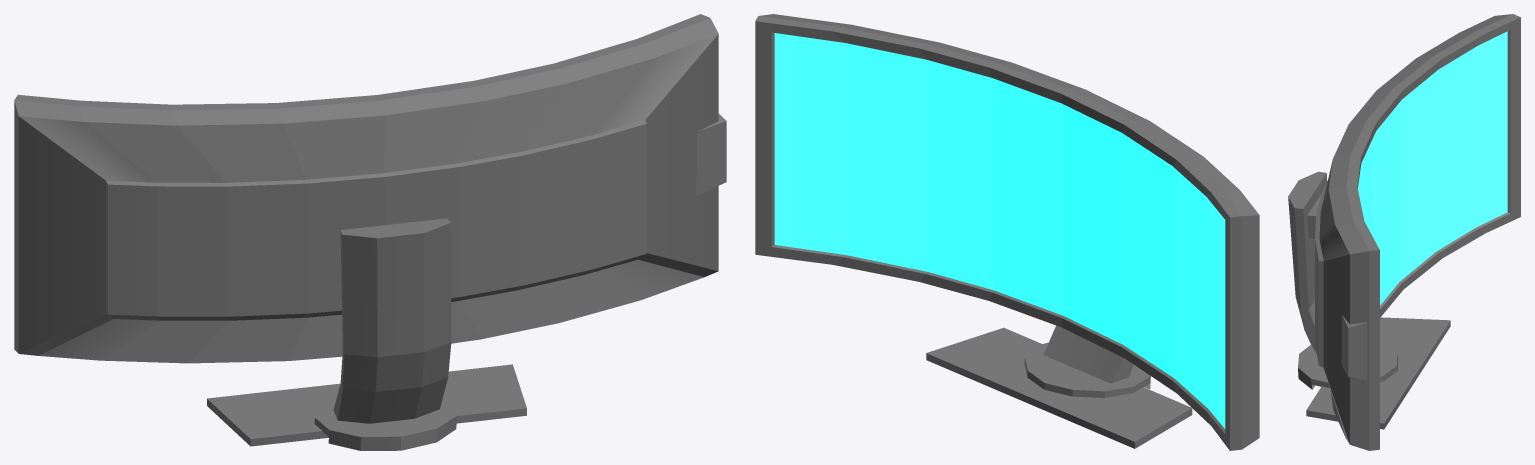
File: Monitor_Bend.fbx
3 renders of one model, left to right at view 1: azimuth 30°, elevation 25°; view 2: azimuth 150°, elevation 25°; view 3: azimuth 270°, elevation 25°, orthographic. The views are drawn at different scales.
Visible parts, largest first — view 1: Monitor_Bend_01.036; view 2: Monitor_Bend_01.036; view 3: Monitor_Bend_01.036.
Part boxes in pixels (x1,y1,x2,y2): Monitor_Bend_01.036: (14, 14, 726, 450); Monitor_Bend_01.036: (755, 14, 1259, 450); Monitor_Bend_01.036: (1288, 14, 1520, 450).
Size of the model in its own units: 124 by 60.69 by 50.76.
